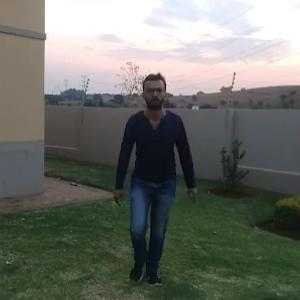follow: (117, 76, 187, 287)
